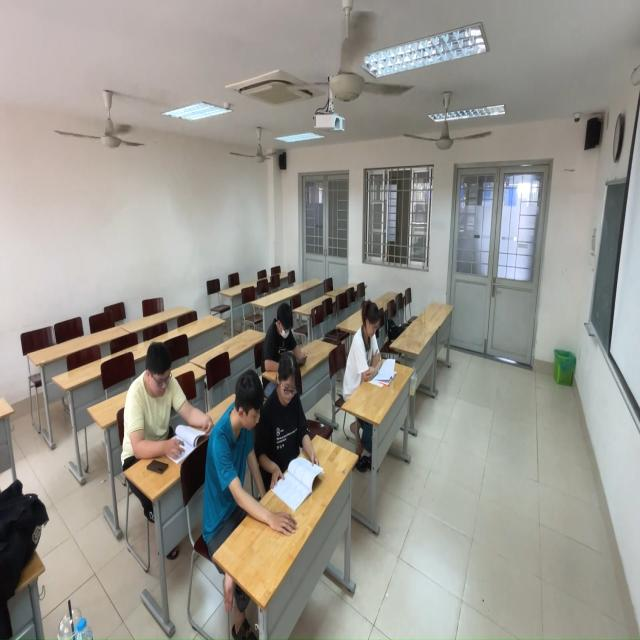read: (203, 373, 273, 542), (122, 339, 204, 470), (264, 355, 326, 509), (345, 301, 393, 407), (262, 302, 313, 371)
